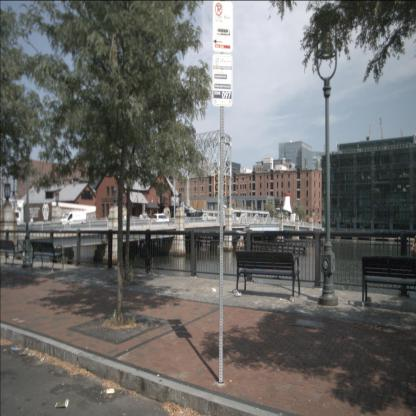vehicle-car: (0, 209, 22, 233), (59, 210, 87, 228), (152, 214, 170, 225)
